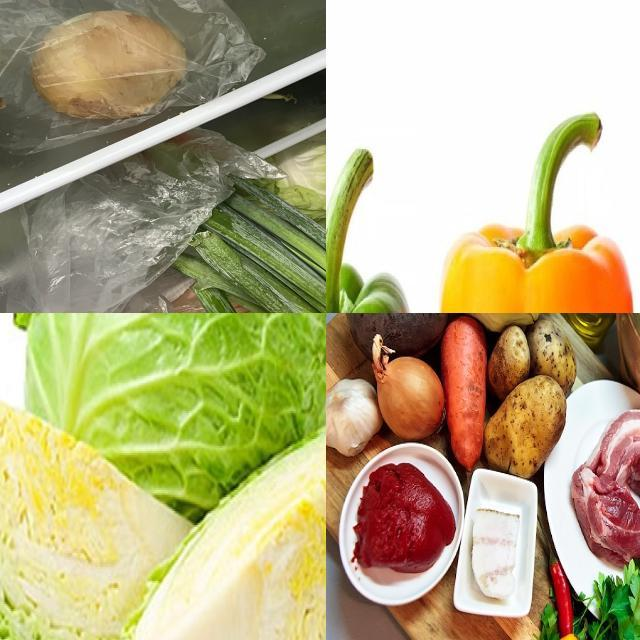beet: (356, 314, 442, 355)
bell_pepper: (443, 108, 634, 314)
cabbage: (21, 314, 327, 533), (102, 394, 327, 640), (1, 371, 199, 640), (250, 119, 327, 226)
carrot: (443, 326, 489, 464)
garlic: (327, 378, 372, 459)
onion: (156, 143, 327, 314), (31, 10, 191, 122), (378, 349, 444, 431)
potato: (493, 374, 561, 474), (538, 319, 575, 382), (493, 336, 533, 386)
